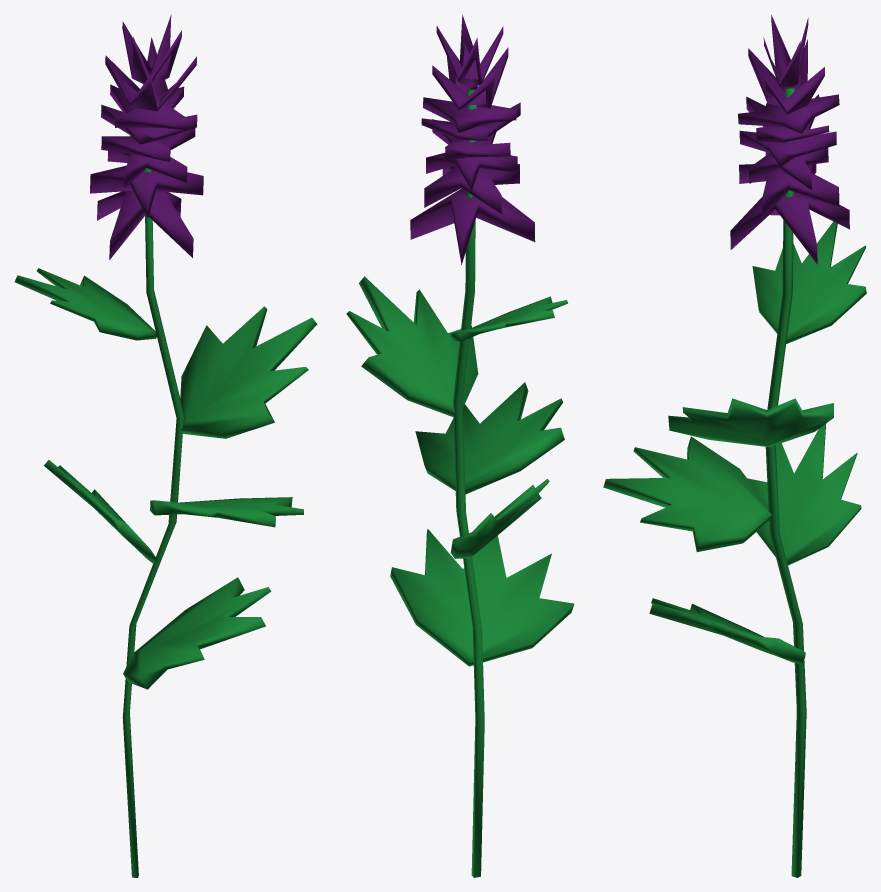
Rendered from RampingFumitory.fbx.
3 renders of one model, left to right at view 1: azimuth 30°, elevation 25°; view 2: azimuth 150°, elevation 25°; view 3: azimuth 270°, elevation 25°, orthographic.
Visible parts, largest first — view 1: RampingFumitory; view 2: RampingFumitory; view 3: RampingFumitory.
Boxes of the visible parts, <box> form: RampingFumitory: <box>14,14,317,877</box>; RampingFumitory: <box>346,14,574,877</box>; RampingFumitory: <box>603,15,866,877</box>.
Bounding box in the file's own units: 0.4324 × 1.41 × 0.3925.
